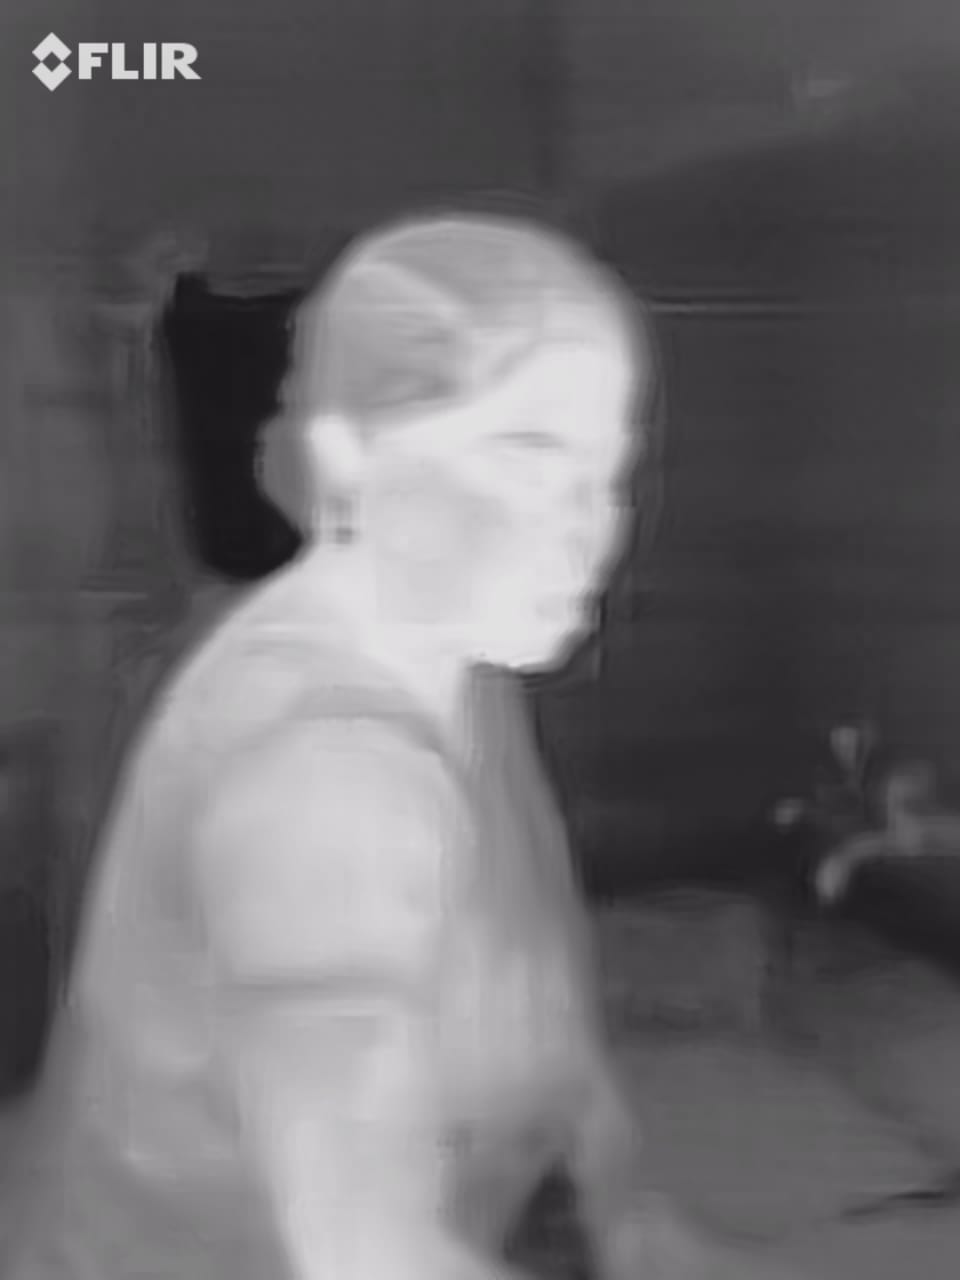head: (240, 203, 656, 711)
